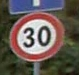limite 30: (8, 11, 63, 62)
